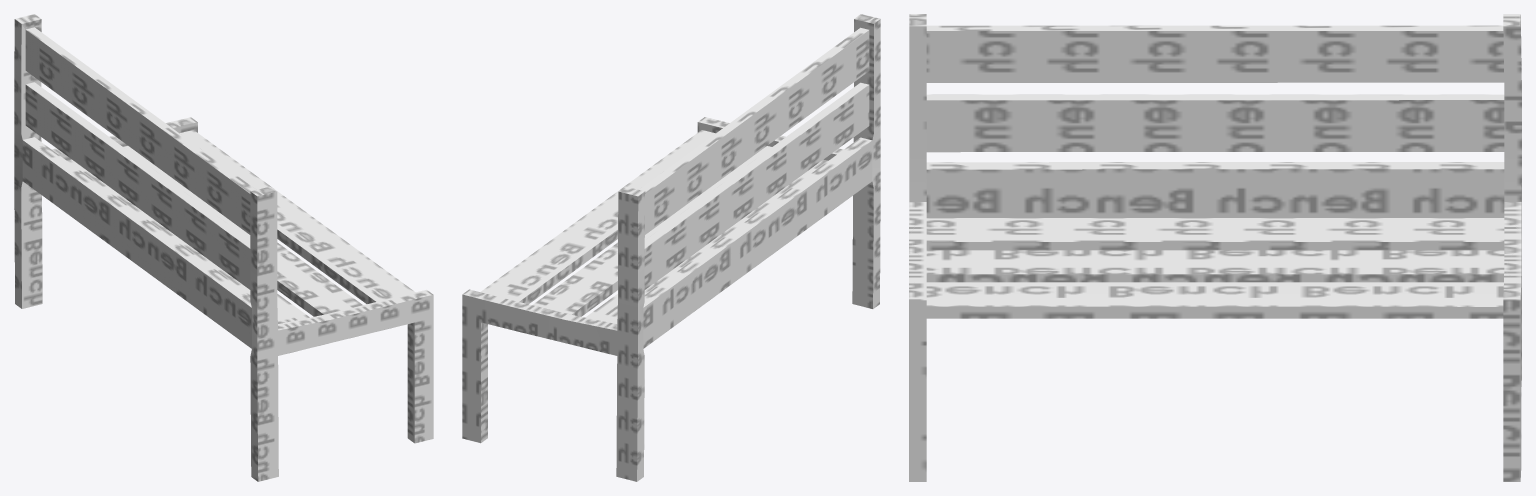
File: bench.fbx
3 renders of one model, left to right at view 1: azimuth 30°, elevation 25°; view 2: azimuth 150°, elevation 25°; view 3: azimuth 270°, elevation 25°, orthographic. The views are drawn at different scales.
Parts seen in each view (by area): view 1: Benchfinal; view 2: Benchfinal; view 3: Benchfinal.
Part boxes in pixels (bbox=[...]): Benchfinal: bbox=[14, 14, 433, 481]; Benchfinal: bbox=[462, 14, 880, 481]; Benchfinal: bbox=[909, 14, 1521, 481].
Size of the model in its own units: 65.91 by 102 by 157.
